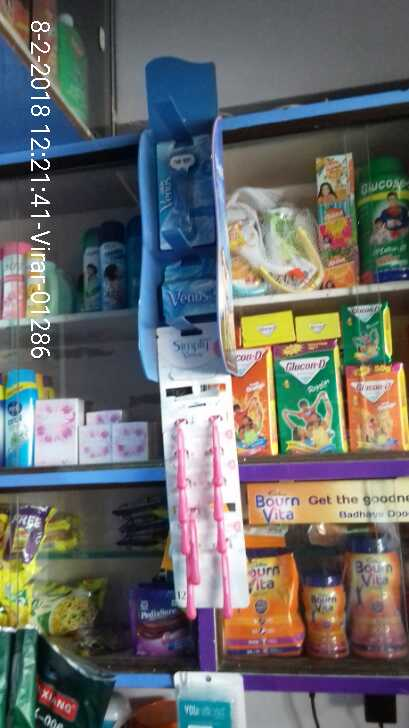venus: (153, 138, 218, 254), (162, 275, 207, 316)
